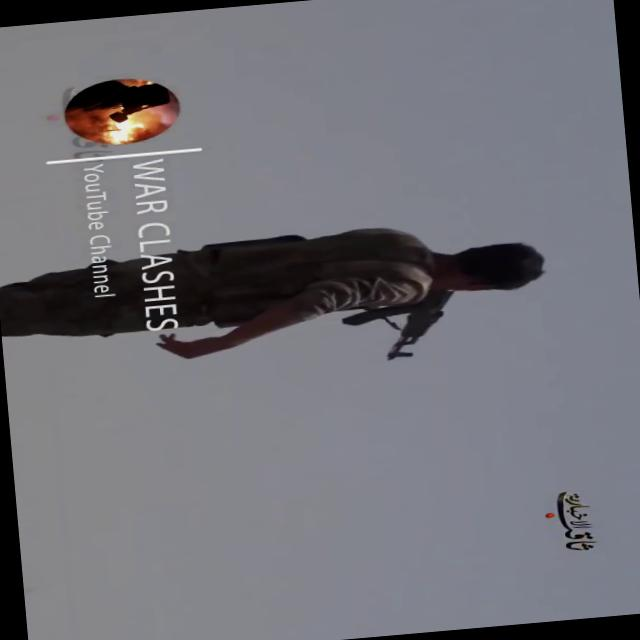long weapon: (337, 287, 473, 367)
